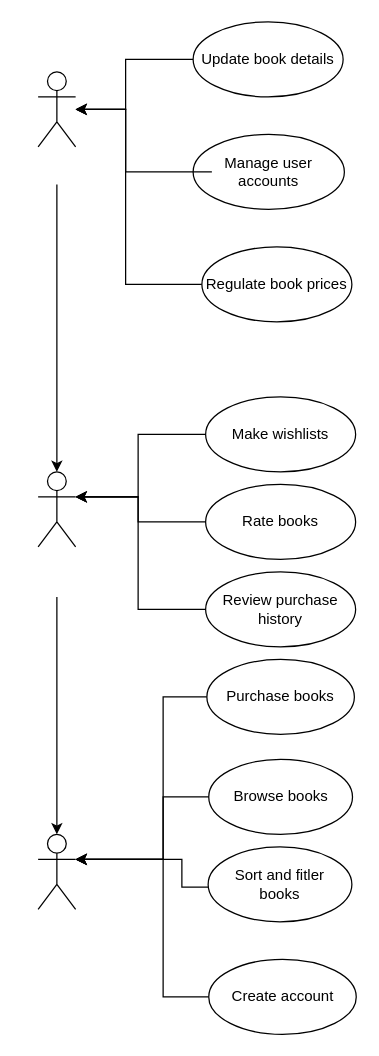
The diagram is 379 pixels wide and 1056 high, and some of its shapes have lost their labels. The box of each missing label's shape, as (x1, y1, x2, y2) in pixels:
Admin: (37, 71, 76, 147)
Customer: (37, 833, 76, 909)
Logged in customer: (37, 471, 76, 547)
